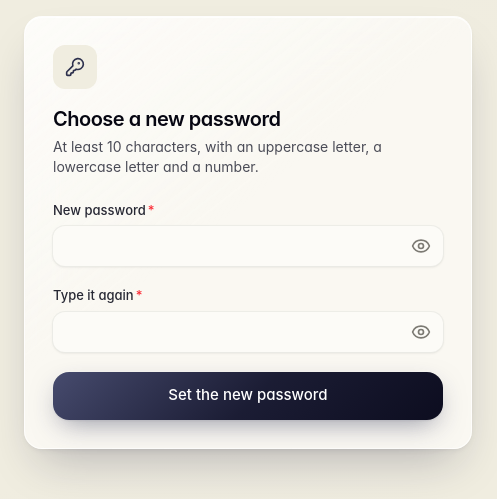
Scenario: reset password page › says plainly that the other sessions were signed out
The image size is (497, 499).
Type "LongEnough_9" into the password field labelled "New password*" at (248, 246), box x1=53 y1=226 x2=443 y2=266
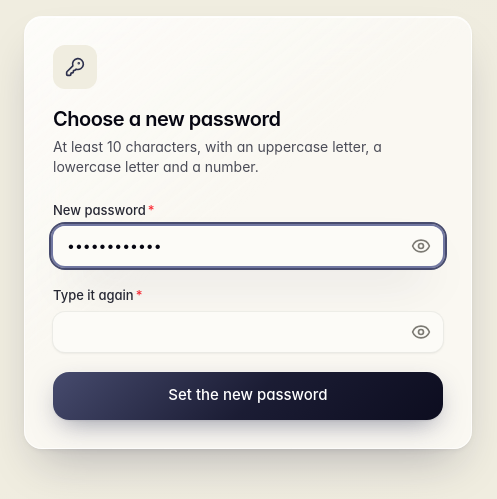
Type "LongEnough_9" into the password field labelled "Type it again*" at (248, 332), box x1=53 y1=312 x2=443 y2=352
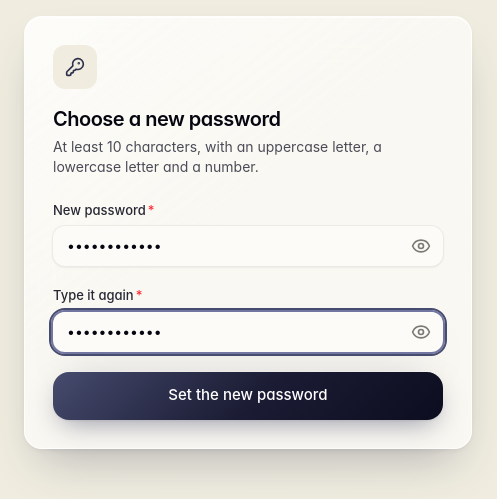
Click the button "Set the new password" at (248, 396), box x1=53 y1=372 x2=443 y2=420
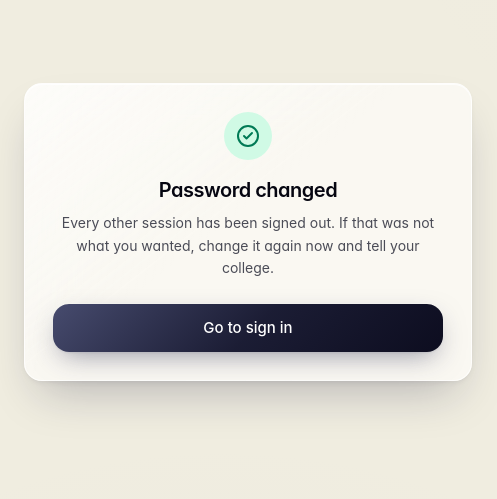
Check: the text "Every other session has been signed out" is shown, box x1=62 y1=214 x2=434 y2=276
